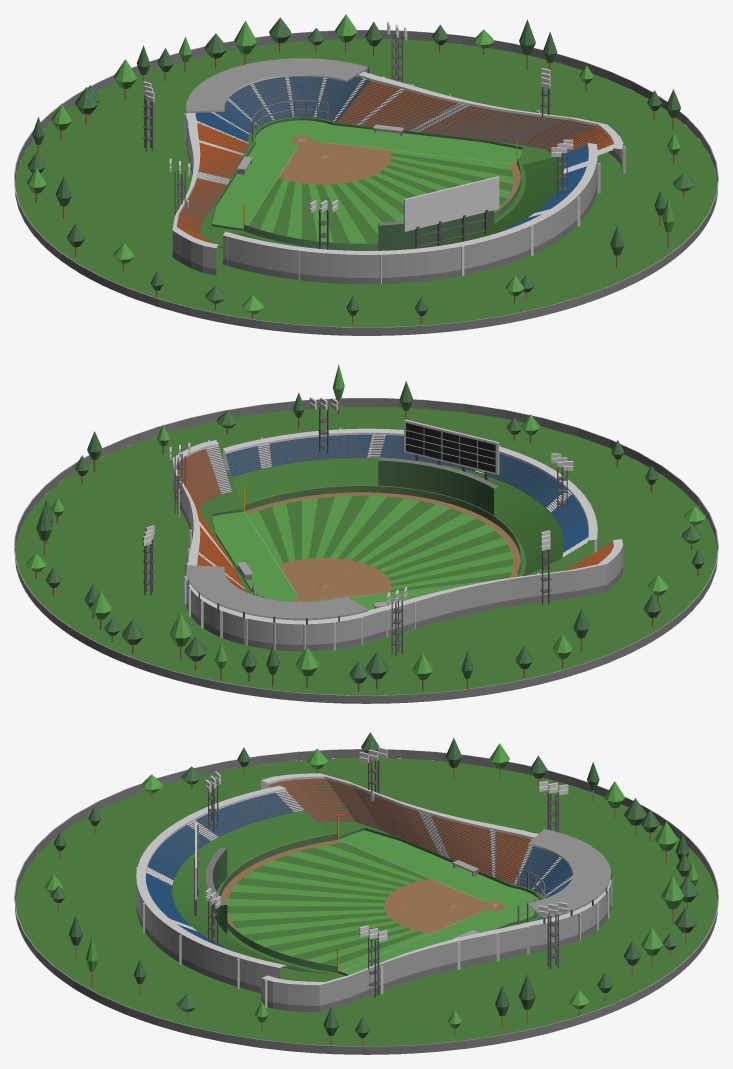
Rendered from standard.obj.
3 renders of one model, top to bottom at view 1: azimuth 30°, elevation 25°; view 2: azimuth 150°, elevation 25°; view 3: azimuth 270°, elevation 25°, orthographic.
Parts seen in each view (by area): view 1: ground_outer, outer_wall, trees, stand_first, stand_outfield_left, turf_foul, stand_outfield_right, turf_fair, stand_backstop, turf_stripes, stand_third, roof_home (+9 smaller); view 2: ground_outer, outer_wall, trees, stand_outfield_right, turf_fair, turf_stripes, stand_outfield_left, stand_third, stand_backstop, stand_first, turf_foul, roof_home (+9 smaller); view 3: ground_outer, outer_wall, trees, stand_third, stand_outfield_left, turf_stripes, turf_fair, stand_first, stand_outfield_right, turf_foul, stand_backstop, roof_home (+11 smaller).
Boxes of the visible parts, x1,y1,x2,y2 form: ground_outer: (15, 38, 717, 335); outer_wall: (14, 30, 718, 335); trees: (26, 14, 694, 323); stand_first: (336, 75, 625, 174); stand_outfield_left: (223, 231, 481, 284); turf_foul: (212, 120, 522, 228); stand_outfield_right: (444, 143, 600, 271); turf_fair: (248, 153, 512, 243); stand_backstop: (184, 71, 375, 144); turf_stripes: (260, 150, 512, 243); stand_third: (172, 121, 248, 275); roof_home: (186, 58, 369, 113); ground_outer: (15, 407, 717, 703); outer_wall: (14, 398, 718, 703); trees: (26, 364, 705, 691); stand_outfield_right: (223, 428, 461, 508); turf_fair: (259, 495, 512, 592); turf_stripes: (247, 496, 512, 589); stand_outfield_left: (466, 446, 597, 575); stand_third: (370, 539, 623, 639); stand_backstop: (184, 575, 376, 651); stand_first: (172, 440, 246, 592); turf_foul: (212, 511, 485, 610); roof_home: (185, 565, 367, 624); ground_outer: (15, 758, 717, 1054); outer_wall: (14, 749, 718, 1054); trees: (44, 732, 699, 1046); stand_third: (261, 773, 534, 884); stand_outfield_left: (136, 785, 328, 905); turf_stripes: (227, 844, 429, 970); turf_fair: (227, 842, 429, 965); stand_first: (261, 921, 534, 1012); stand_outfield_right: (136, 877, 332, 993); turf_foul: (338, 830, 539, 974); stand_backstop: (514, 833, 612, 952); roof_home: (528, 829, 611, 923).
Bounding box in the file's own units: 301 × 33.2 × 301.
